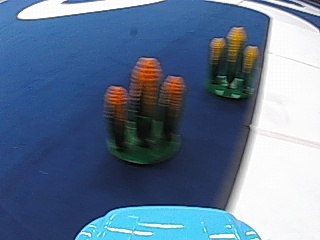corn: (103, 59, 186, 167), (205, 27, 260, 100)
